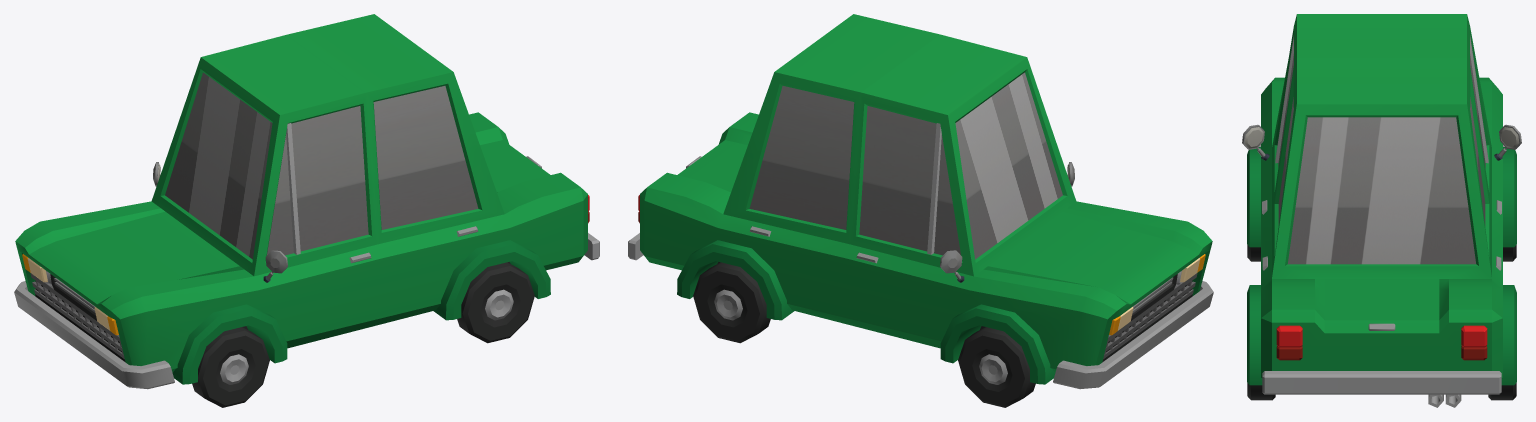
File: Car_4_1_H.gltf
3 views of the same model, side by side, from view 1: azimuth 30°, elevation 25°; view 2: azimuth 150°, elevation 25°; view 3: azimuth 270°, elevation 25° (orthographic). The views are drawn at different scales.
Parts seen in each view (by area): view 1: Car_4_1_H, RL, FL; view 2: Car_4_1_H, RR, FR; view 3: Car_4_1_H, RL, RR.
Boxes of the visible parts, x1,y1,x2,y2 form: Car_4_1_H: (14, 14, 599, 389); RL: (457, 262, 534, 343); FL: (192, 327, 269, 407); Car_4_1_H: (628, 14, 1213, 389); RR: (693, 262, 770, 343); FR: (958, 327, 1035, 407); Car_4_1_H: (1242, 14, 1521, 407); RL: (1247, 383, 1275, 400); RR: (1488, 383, 1516, 400).
Size of the model in its own units: 3.53 by 1.81 by 1.65.
4 materials, 4 textured.
